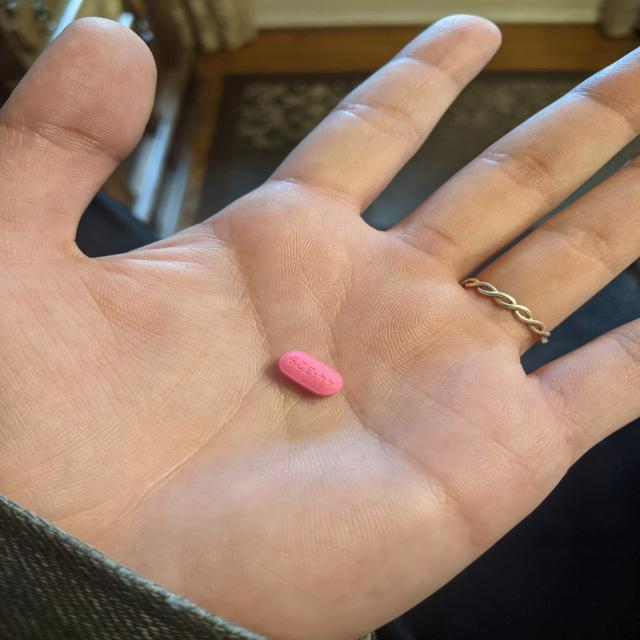non-organic waste: (277, 349, 345, 399)
